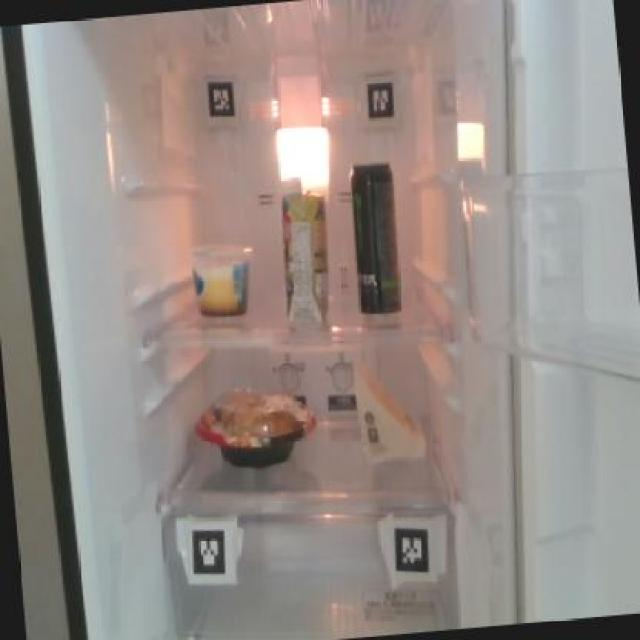bento: (190, 384, 321, 476)
energy_drink: (345, 154, 404, 323)
pudding: (188, 234, 255, 320)
sandwich: (348, 346, 428, 468)
smoothie: (274, 173, 334, 324)
